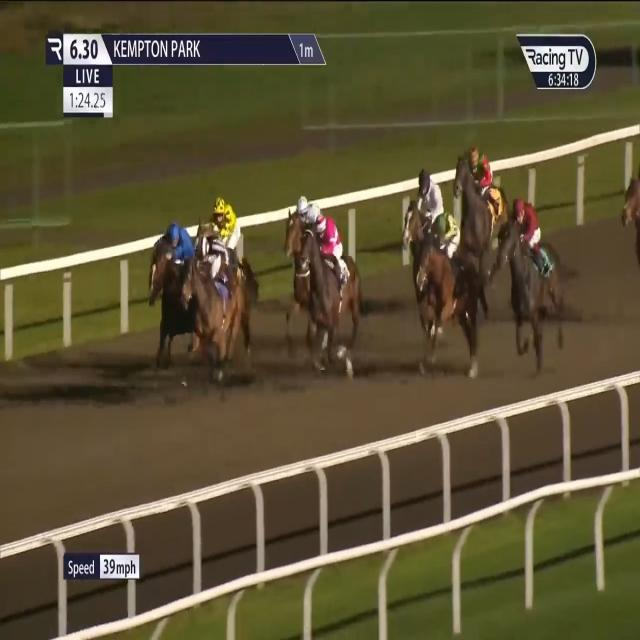horses-racing: (499, 192, 575, 380), (417, 204, 483, 386), (298, 206, 366, 377), (186, 226, 256, 377), (147, 224, 206, 348), (453, 145, 508, 261), (396, 163, 449, 261), (199, 190, 251, 280), (282, 198, 320, 280), (623, 158, 640, 278)
